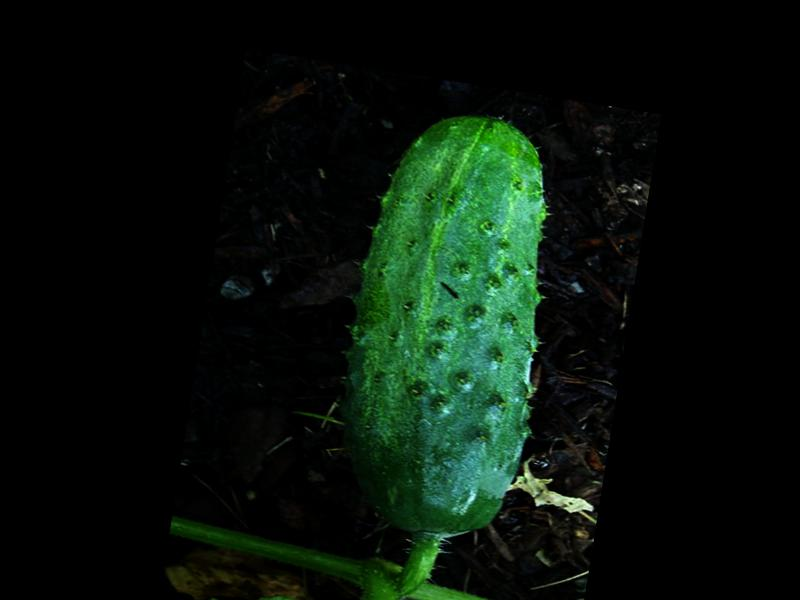Cucumber: (318, 97, 575, 549)
